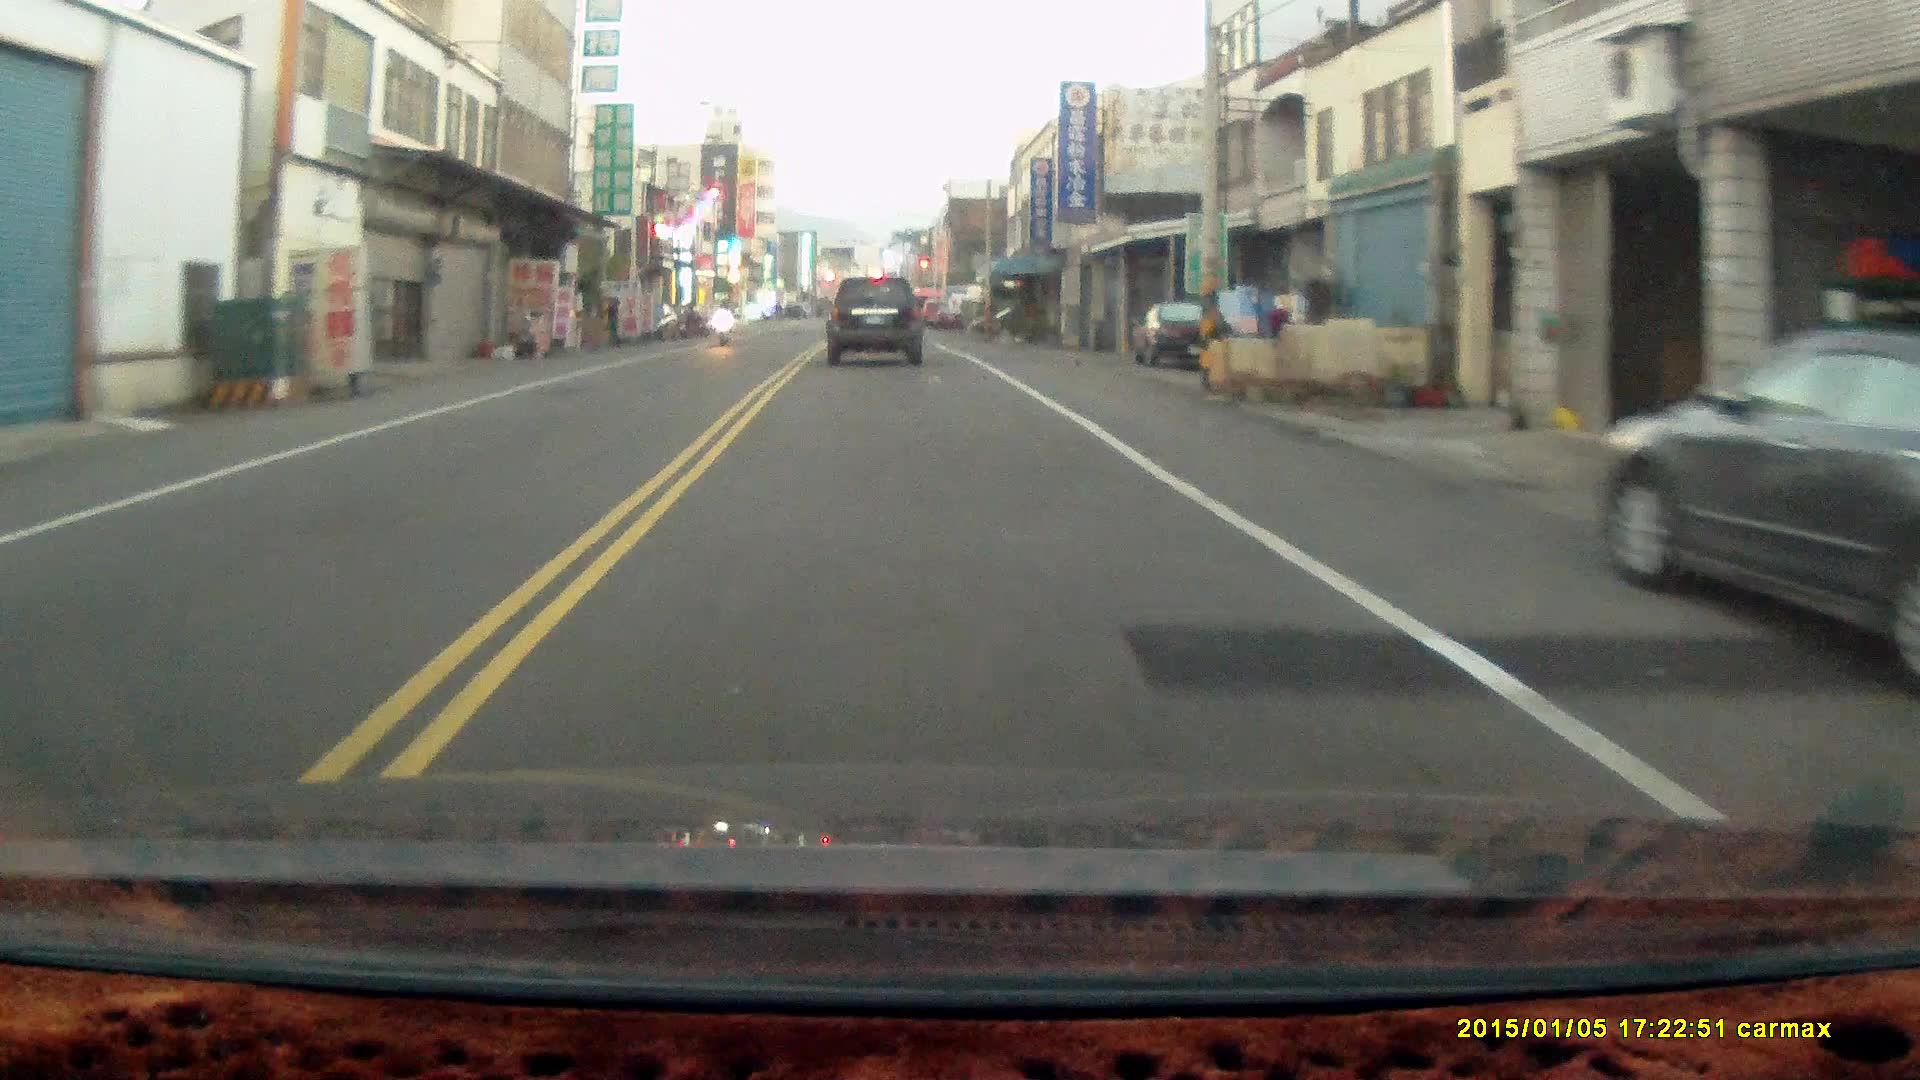pedestrian: (601, 293, 622, 350)
rider: (706, 290, 733, 343)
vehicle: (1593, 326, 1920, 683), (826, 277, 926, 370), (1134, 299, 1240, 373)
